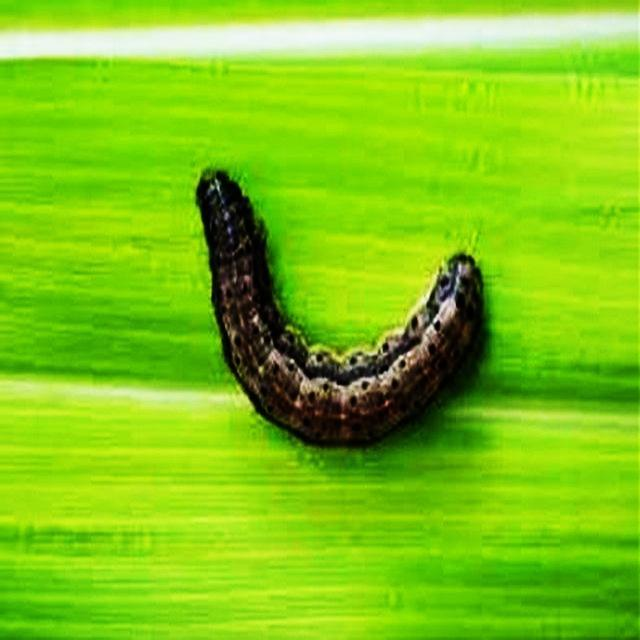Plaga: (190, 160, 495, 453)
